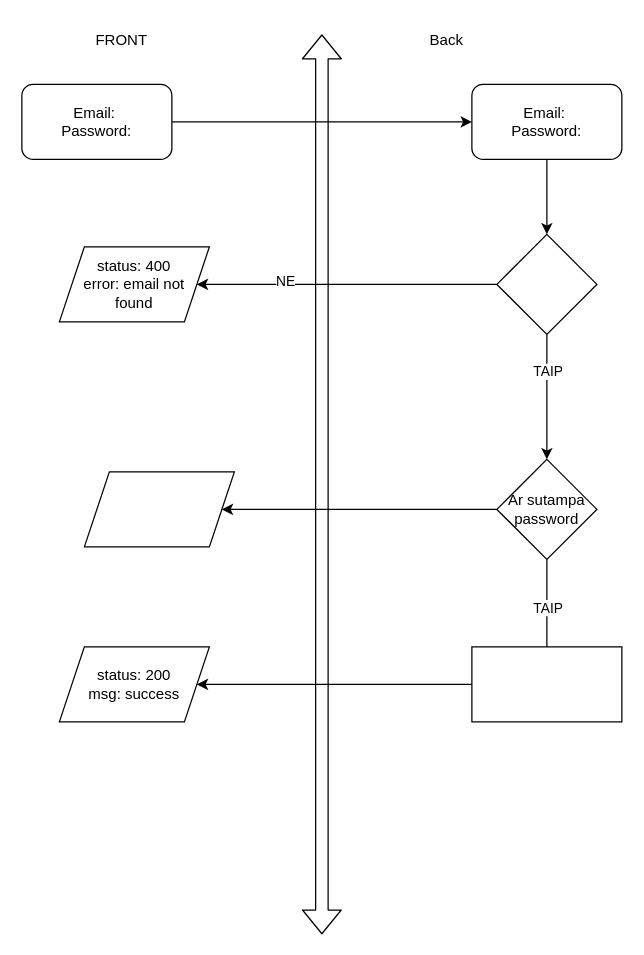
The diagram is 644 pixels wide and 955 high, and some of its shapes have lost their labels. Here are the shapes that lost their labels. From the top down, the centre of each, then its label:
At pixel 546 283: "Ar yra toks Email".
At pixel 158 509: "status: 401 error: email or password not found".
At pixel 546 684: "Success".
